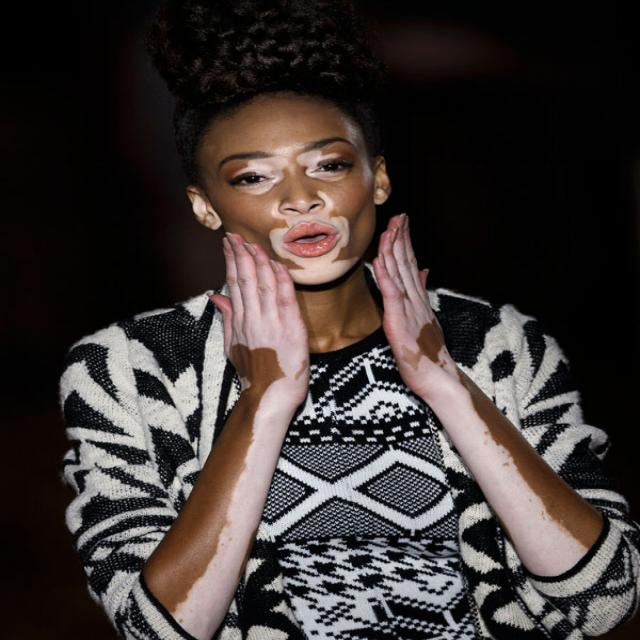vitiligo: (143, 113, 610, 634)
